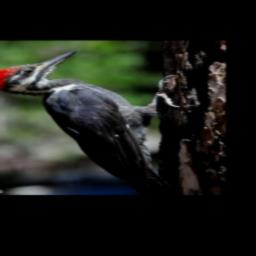Woodpecker: (0, 50, 180, 194)
